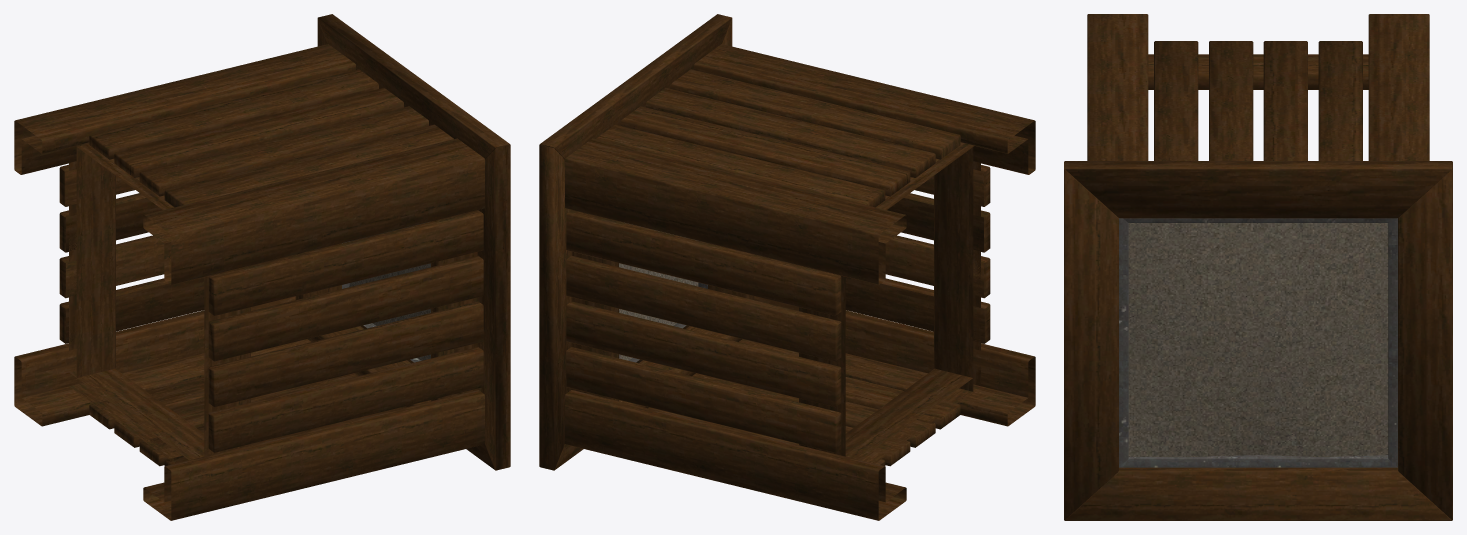
The model's file is cP_Ashtray.dae.
The picture shows the model from 3 angles, left to right: view 1: azimuth 30°, elevation 25°; view 2: azimuth 150°, elevation 25°; view 3: azimuth 270°, elevation 25°; orthographic projection. The views are drawn at different scales.
Parts seen in each view (by area): view 1: cP_Ashtray.001; view 2: cP_Ashtray.001; view 3: cP_Ashtray.001.
Boxes of the visible parts, x1,y1,x2,y2 form: cP_Ashtray.001: (14,14,510,520); cP_Ashtray.001: (539,14,1035,520); cP_Ashtray.001: (1064,14,1452,520).
Bounding box in the file's own units: 0.6938 × 0.6513 × 0.6513.
